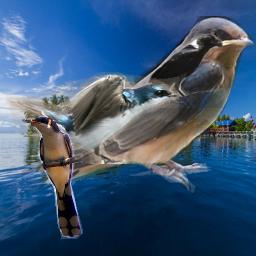Crow: (132, 31, 223, 108)
Cuckoo: (22, 116, 83, 239)
Swallow: (36, 16, 255, 193), (6, 72, 179, 164)
